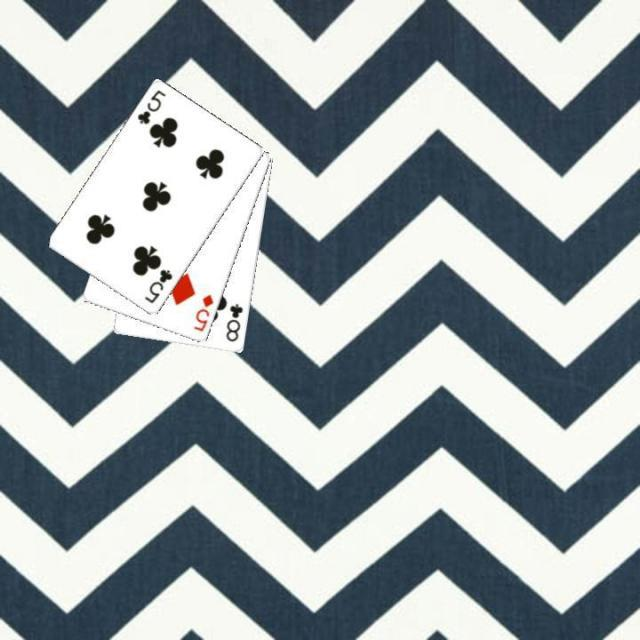5C: (140, 266, 174, 306), (133, 86, 167, 126)
5D: (190, 290, 215, 334)
8C: (222, 300, 245, 344)
